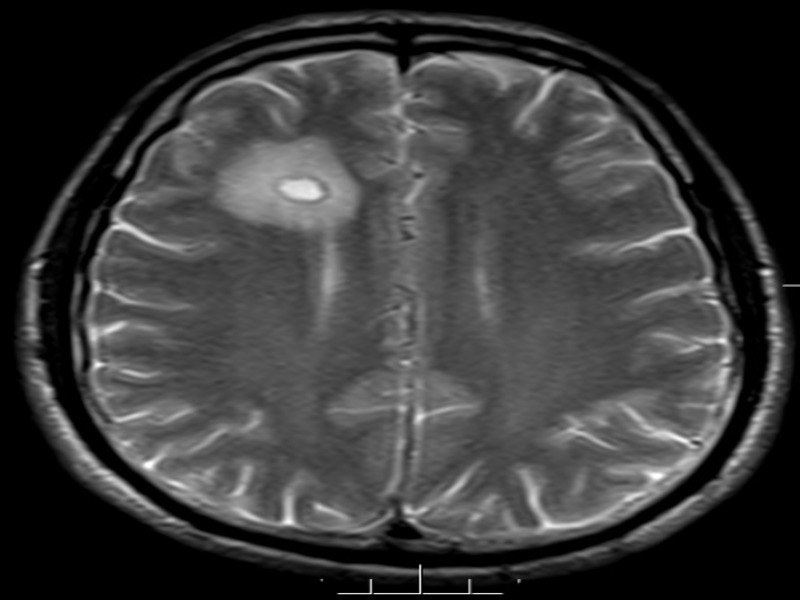tumor: (260, 159, 347, 217)
